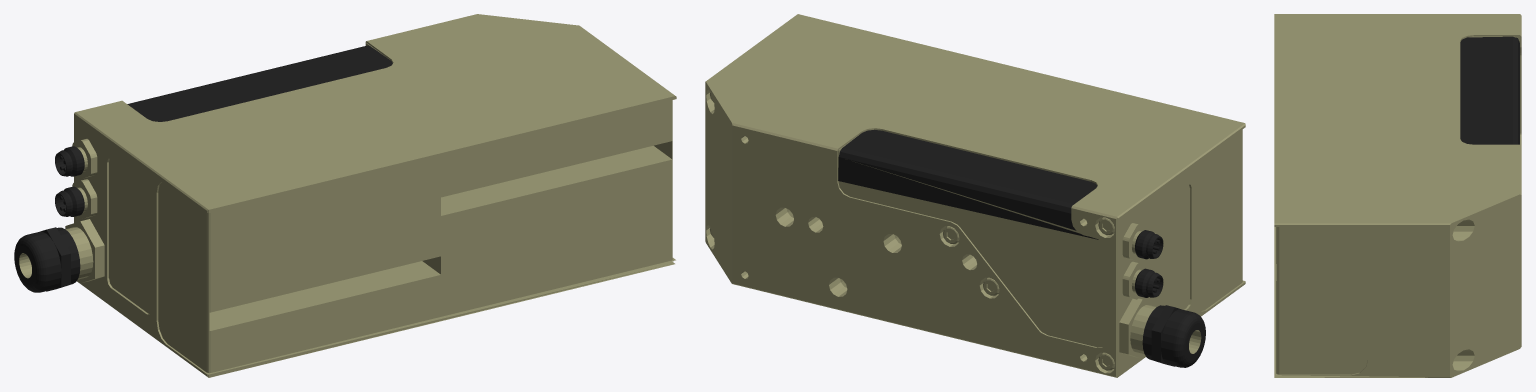
File: schunk_wsg50_main.dae
3 views of the same model, side by side, from view 1: azimuth 30°, elevation 25°; view 2: azimuth 150°, elevation 25°; view 3: azimuth 270°, elevation 25° (orthographic). The views are drawn at different scales.
Parts seen in each view (by area): view 1: group_0 (×8); view 2: group_0 (×9); view 3: group_0 (×2).
Part boxes in pixels (box(x1,y1,x2,y2)): group_0 (×8): box(14, 14, 676, 377); group_0 (×9): box(705, 14, 1245, 377); group_0 (×2): box(1274, 14, 1521, 377).
Size of the model in its own units: 6.54 by 2.85 by 1.97.
